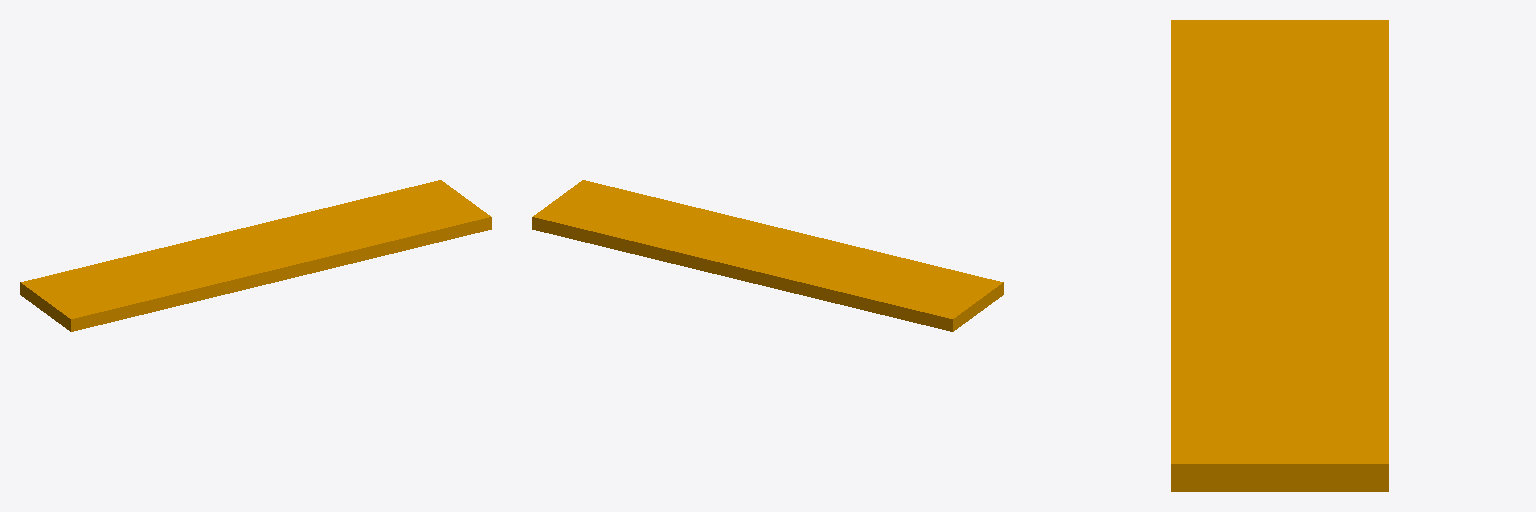
URDF robot description (sniyaz_ceiling):
<robot name="sniyaz_ceiling">
  <link name="base_link">
    <!-- NOTE: Collision geometry is simplified: just a box for the ceiling. -->
    <collision>
      <origin xyz="0 0 0.0"/>
      <geometry>
        <box size="1.8288 0.381 0.05295"/>
      </geometry>
    </collision>
    <!-- NOTE: Visual Geometry is same as (simple) collision geometry. -->
    <visual>
      <origin xyz="0 0 0.0"/>
      <geometry>
        <box size="1.8288 0.381 0.05295"/>
      </geometry>
    </visual>
  </link>
</robot>

--- Render facts (derived) ---
Views: 3 orthographic renders of the robot side by side, from view 1: azimuth 30°, elevation 25°; view 2: azimuth 150°, elevation 25°; view 3: azimuth 270°, elevation 25°.
Model sniyaz_ceiling with 1 links and 0 joints (none), rooted at base_link, posed every joint at zero.
Visible links, largest first — view 1: base_link; view 2: base_link; view 3: base_link.
Link boxes in pixels (bbox=[...]): base_link: bbox=[20, 180, 491, 331]; base_link: bbox=[532, 180, 1003, 331]; base_link: bbox=[1171, 20, 1388, 491].
Size in the robot's own frame: 1.83 by 0.381 by 0.0529 metres.
Geometry: primitives only (box / cylinder / sphere), no mesh files.
